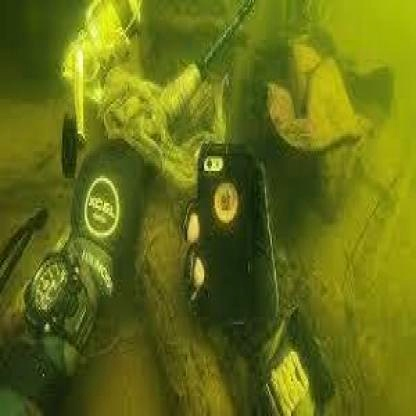cellphone: (195, 141, 256, 342)
